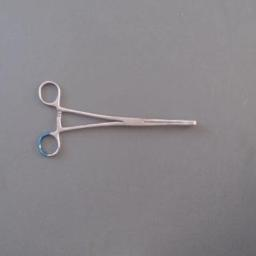Sponge Forceps: (34, 78, 200, 164)
